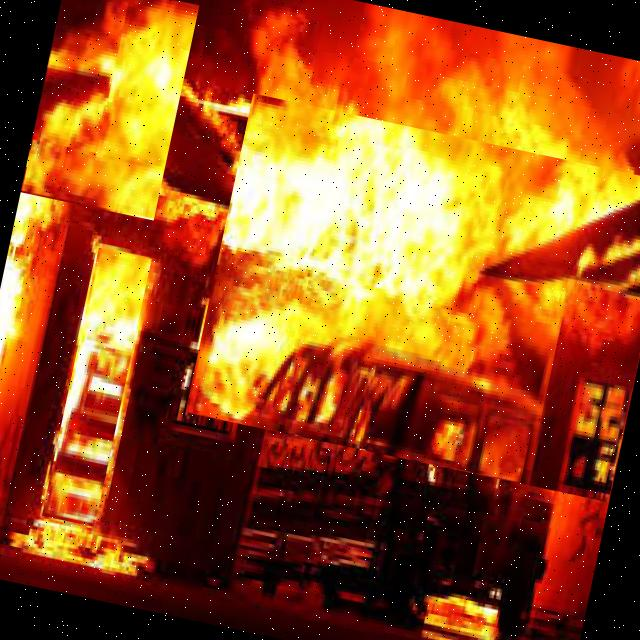fire: (185, 93, 640, 502), (20, 0, 199, 220), (41, 248, 151, 529)
